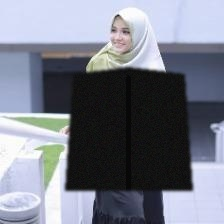Cadar_Niqab: (65, 6, 192, 190)
